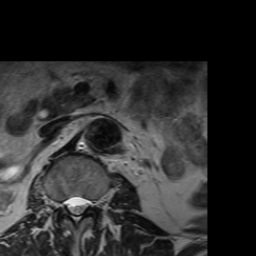CCS_normal: (71, 186, 80, 229)
LFS_stenosis: (89, 189, 99, 215)
LLS_normal: (80, 189, 89, 218)
RFS_stenosis: (55, 189, 63, 216)
RLS_normal: (63, 190, 71, 217)
